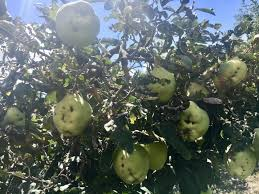damaged_apple: (53, 4, 104, 46), (54, 91, 93, 139), (175, 93, 207, 146), (115, 142, 152, 185), (144, 60, 177, 103), (218, 58, 252, 90), (226, 148, 257, 181)
